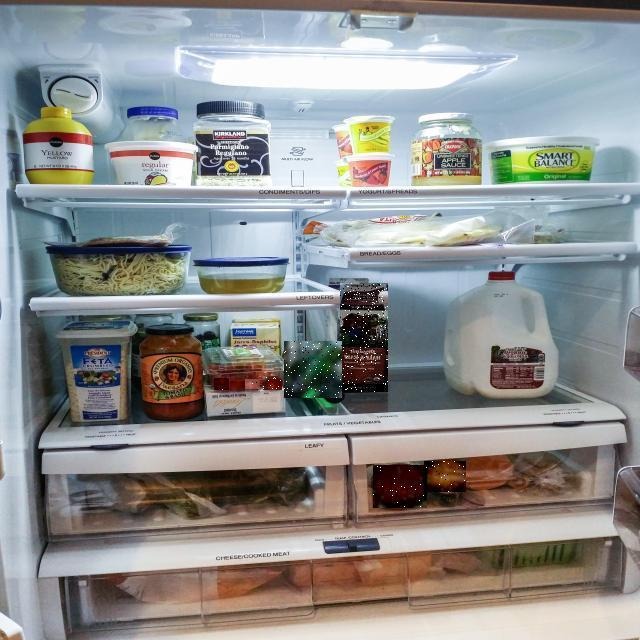Apple: (373, 465, 427, 508), (424, 461, 466, 492)
Milk: (340, 283, 388, 392)
Tomato Paste: (263, 377, 282, 391), (214, 379, 229, 391), (246, 379, 262, 389), (230, 381, 245, 391)
Water: (284, 341, 342, 398)
